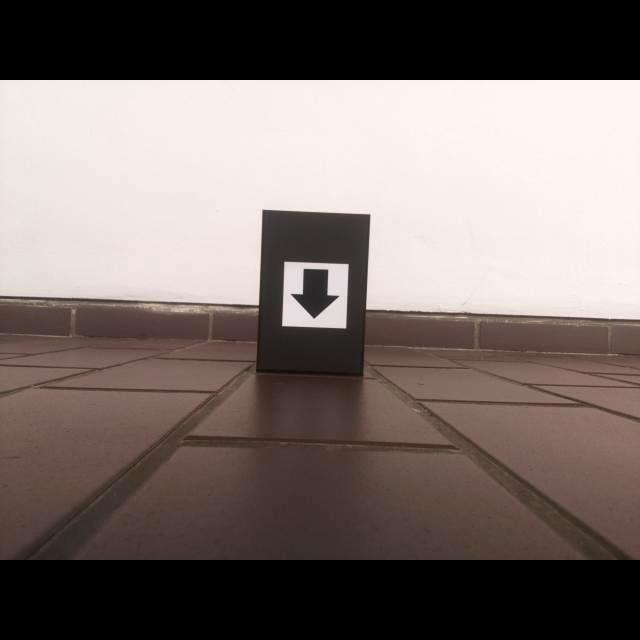DOWN: (289, 268, 341, 320)
